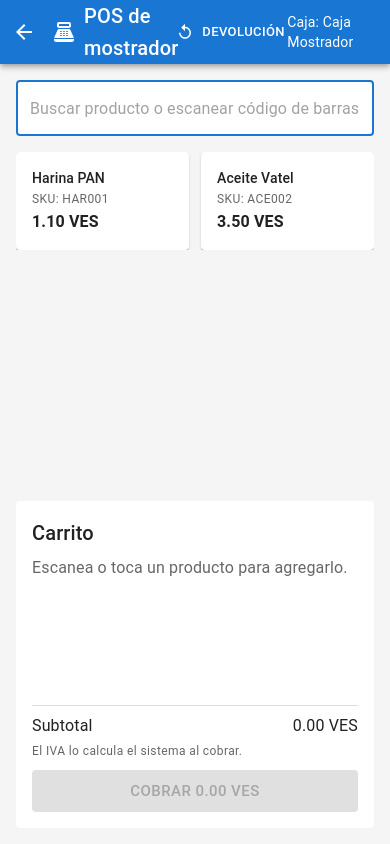
PosPage › muestra el error del backend al crear la venta y permite reintentar
Expected: the heading "Harina PAN" is shown, 32,170 -> 105,186
In the field with test id "pos-busqueda": [195, 108] box 16,80 -> 374,136, type "HAR001"
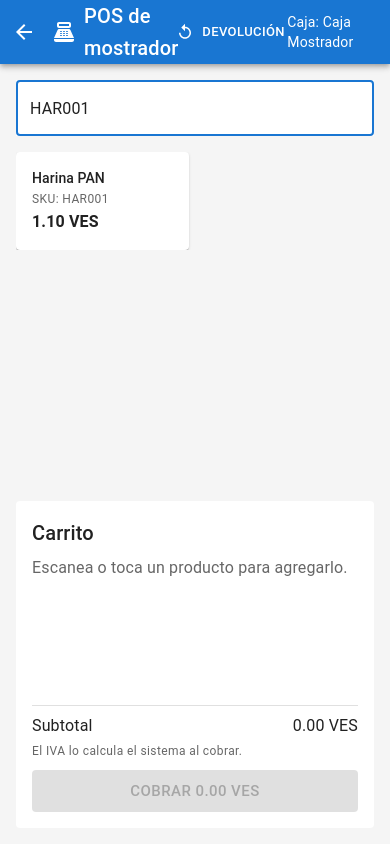
Press Enter in the field with test id "pos-busqueda", box 16,80 -> 374,136
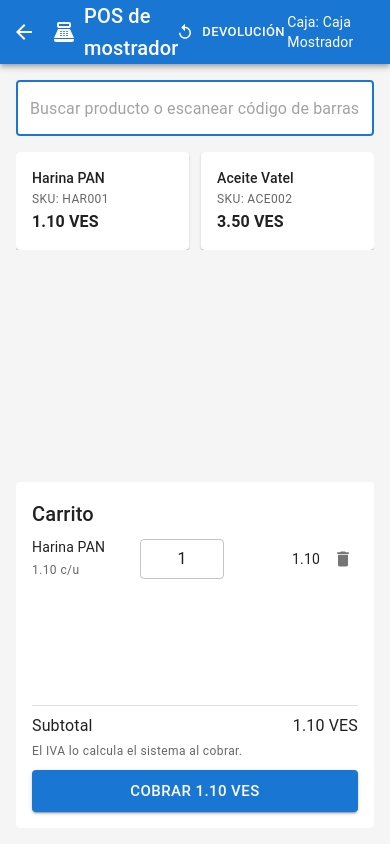
Click the button with test id "pos-cobrar": [195, 791] box 32,770 -> 358,812
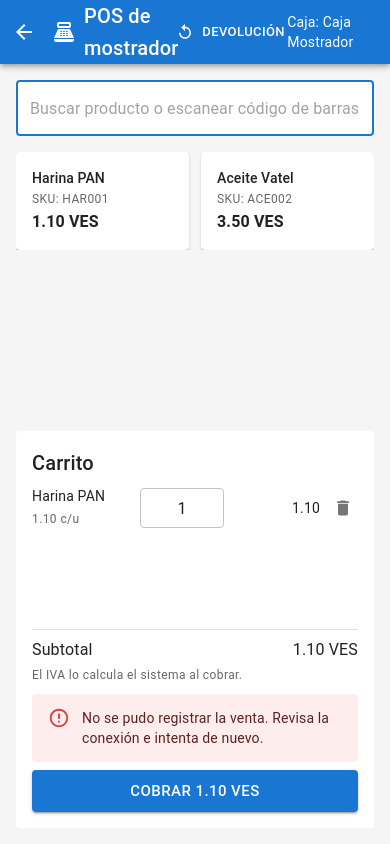
Expected: the message with test id "pos-error" shows "No se pudo registrar la venta", 82,710 -> 329,746
Click the button with test id "pos-cobrar": [195, 791] box 32,770 -> 358,812
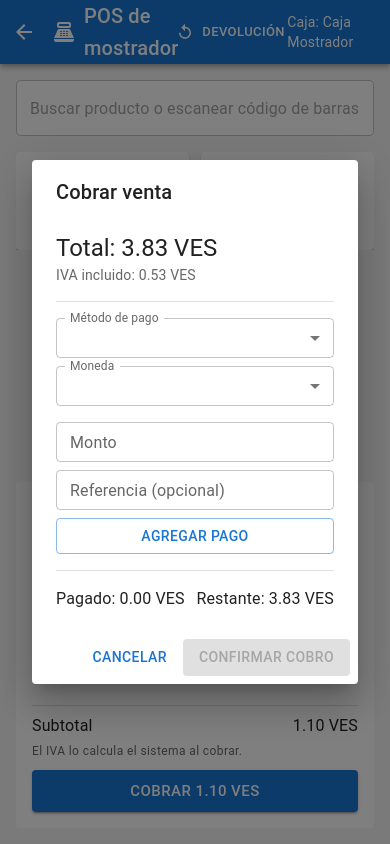
Expected: the heading "Total: 3.83 VES" is shown, 56,234 -> 217,262
